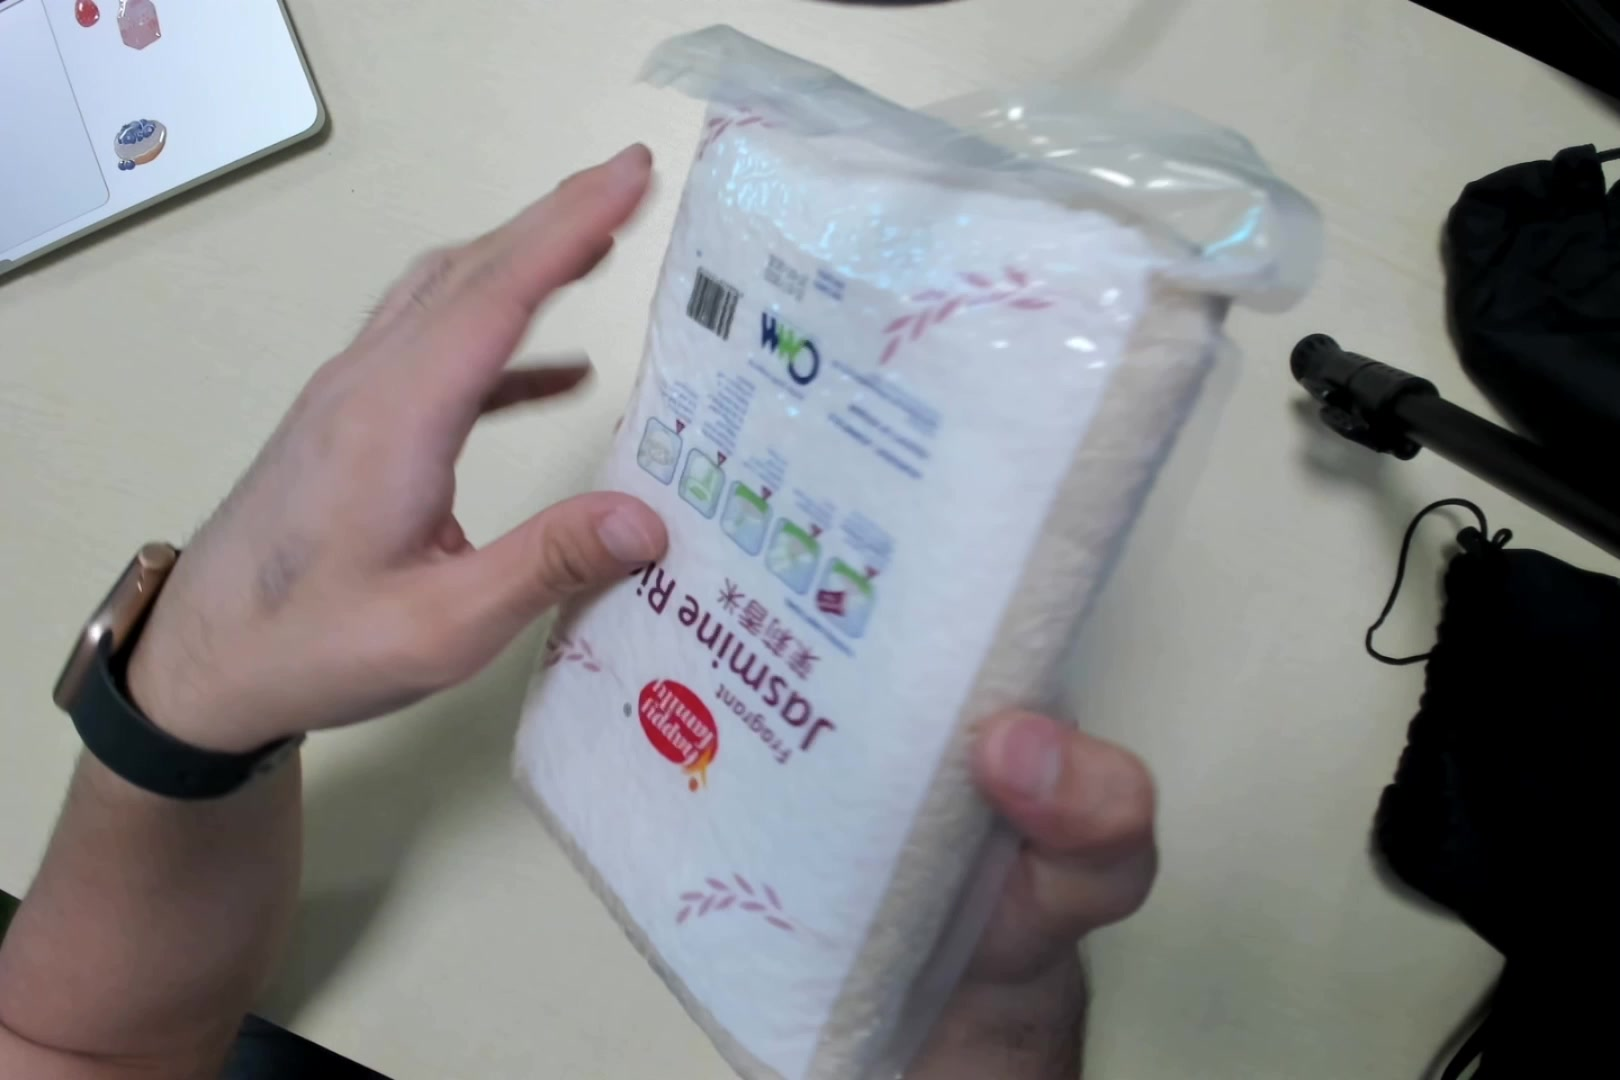Rice(White)_1000-1999g_NonHalal_NonHealthy: (529, 42, 1237, 1069)
